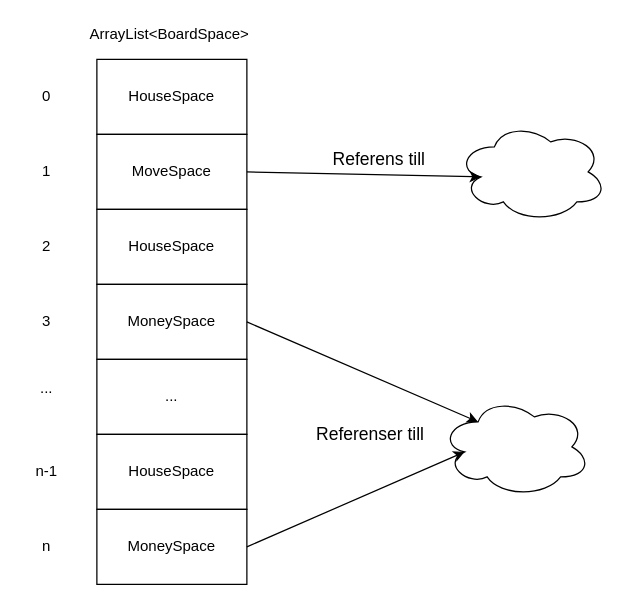
This 629x606 diagram has some shape labels left out. The centre of each missing label's shape, as x and y in pixels:
"MoneyCard[]" goes at point (515, 446).
"MoveCard[]" goes at point (531, 171).
